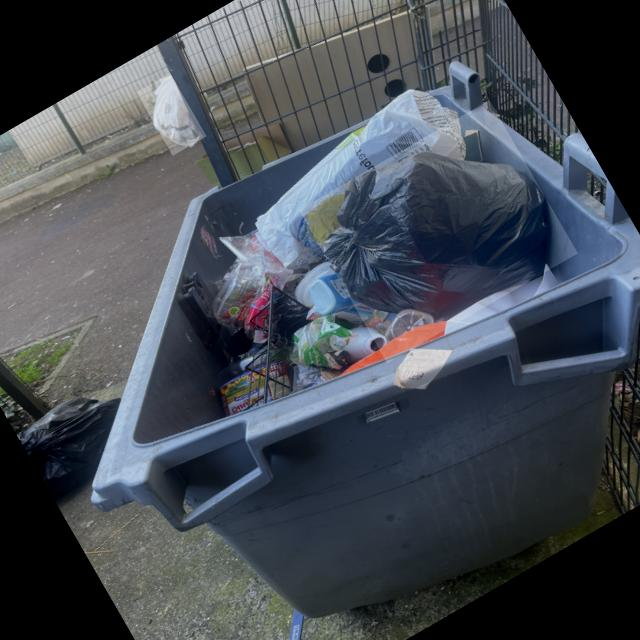Garbage bag: (324, 151, 548, 318), (152, 76, 199, 146)
